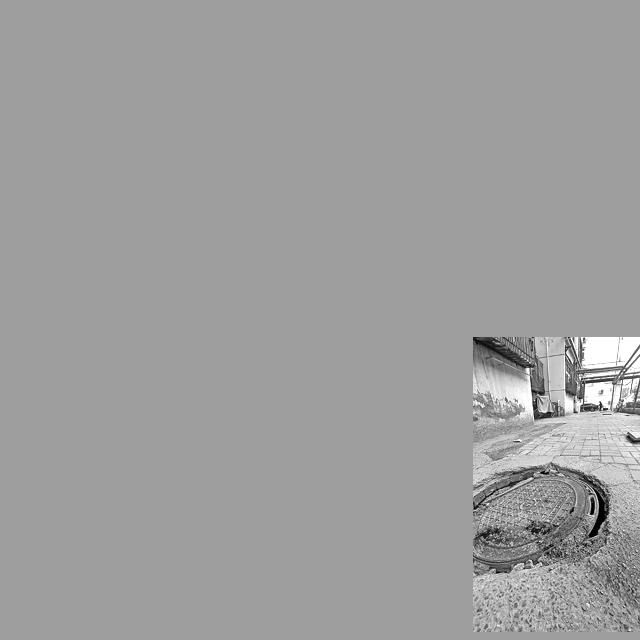circle: (474, 455, 618, 608)
